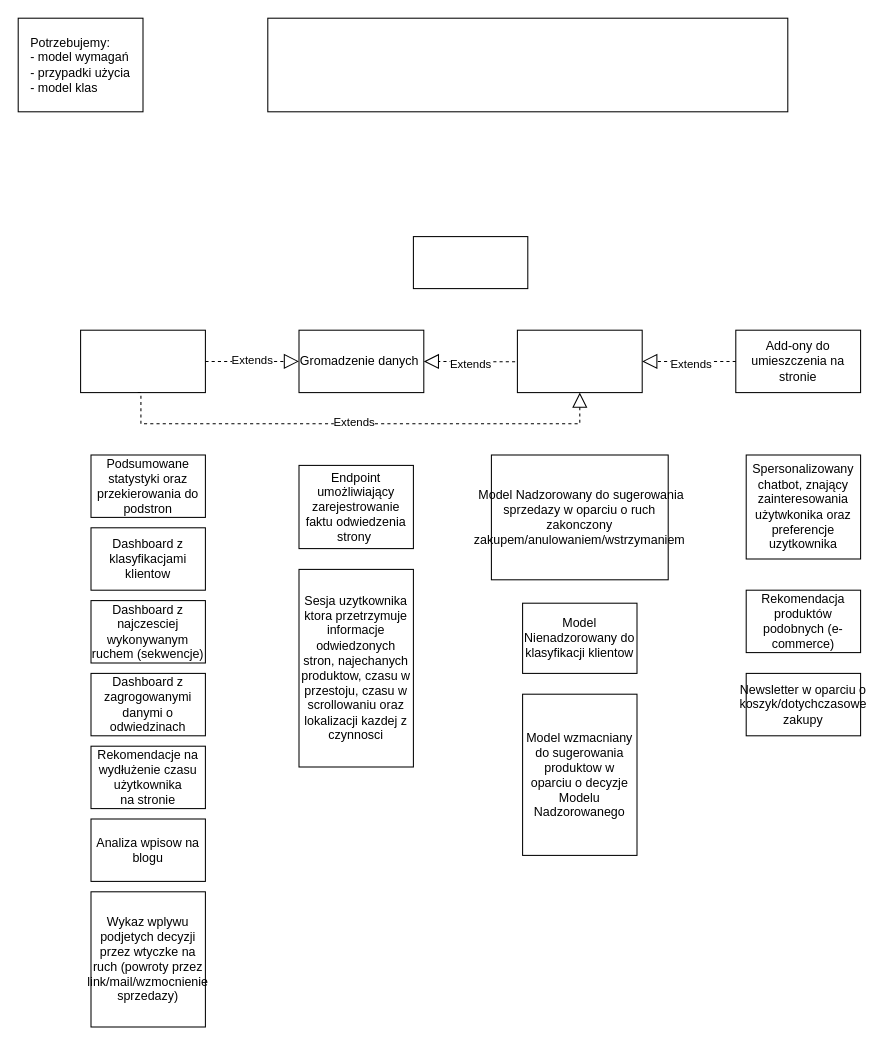
The diagram is 885 pixels wide and 1045 high, and some of its shapes have lost their labels. The shapes that lost their labels are listed below. From the top down, each one's centre as x and y in pixels, then its label:
point 527,64: Wtyczka E-Com Analytics
point 470,262: Wymagania funkcjonalne
point 142,361: Panel dla właściceli stron
point 579,361: Przetwarzanie danych
